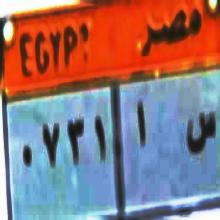0: (21, 140, 33, 178)
1: (93, 112, 108, 166)
3: (66, 117, 84, 177)
7: (40, 123, 61, 167)
alif: (134, 99, 149, 157)
seen: (184, 103, 216, 160)
